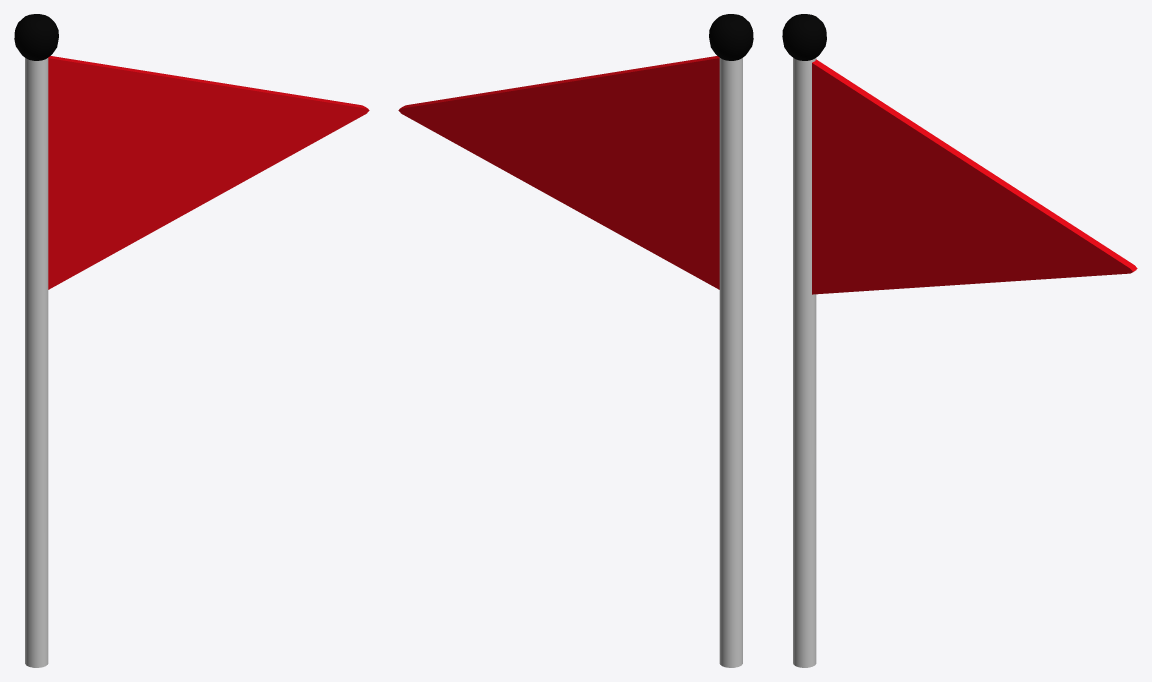
File: Flag.fbx
3 renders of one model, left to right at view 1: azimuth 30°, elevation 25°; view 2: azimuth 150°, elevation 25°; view 3: azimuth 330°, elevation 25°, orthographic.
Visible parts, largest first — view 1: Flag; view 2: Flag; view 3: Flag.
Part boxes in pixels (x1,y1,x2,y2): Flag: (14,14,369,667); Flag: (398,14,753,667); Flag: (782,14,1137,667).
Size of the model in its own units: 856 by 1505 by 94.95.
